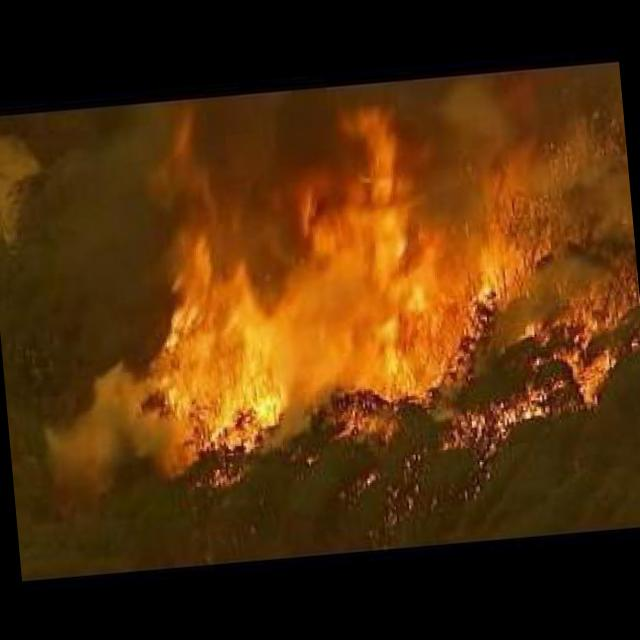fire: (122, 68, 640, 514)
